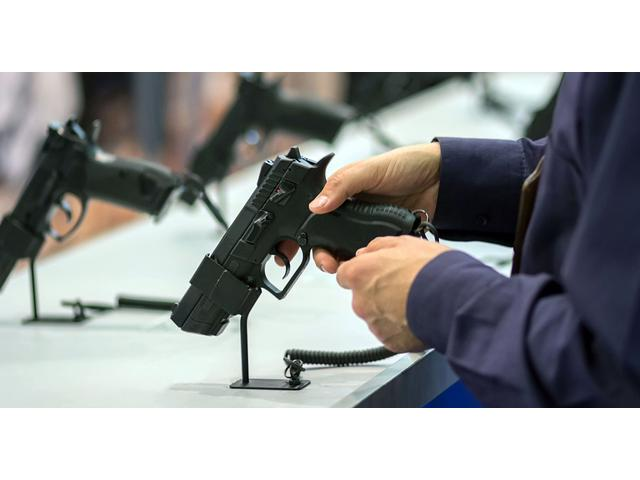pistol: (167, 147, 419, 343), (1, 105, 172, 264), (187, 72, 352, 180)
